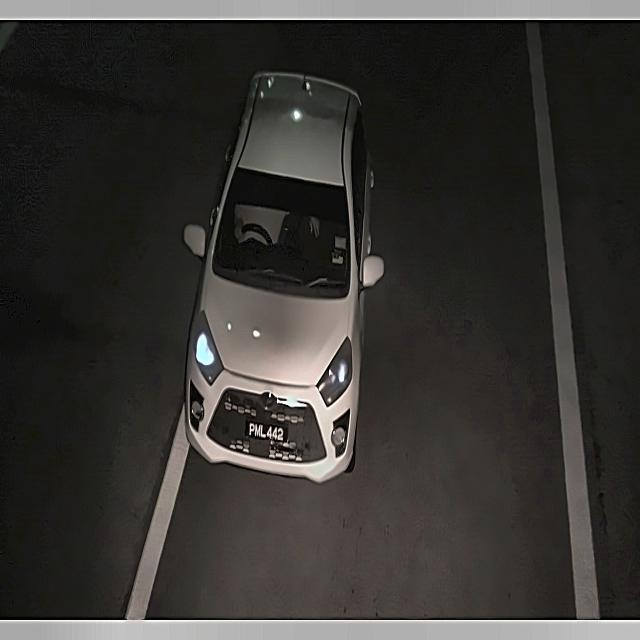car: (239, 414, 294, 452)
